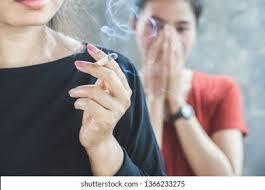smoke: (89, 53, 118, 70)
